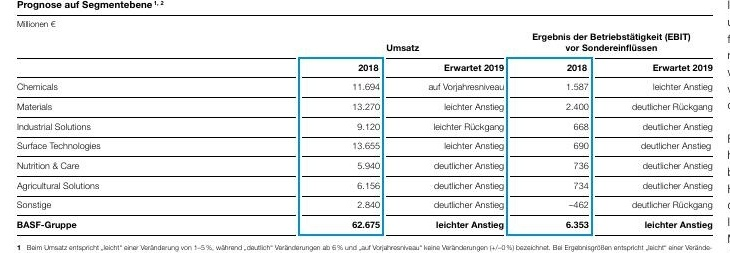table: (0, 0, 730, 253)
